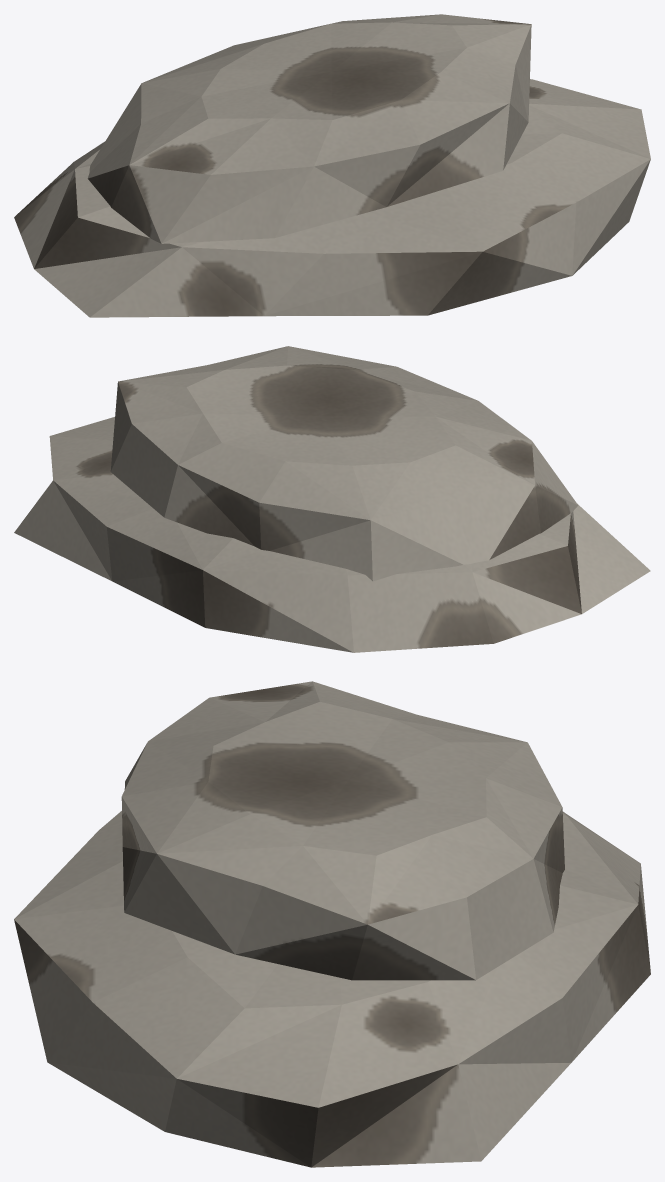
File: CommonStone_Loose_B.glb
3 renders of one model, top to bottom at view 1: azimuth 30°, elevation 25°; view 2: azimuth 150°, elevation 25°; view 3: azimuth 270°, elevation 25°, orthographic. The views are drawn at different scales.
Visible parts, largest first — view 1: CommonStone_Loose_B_LOD0; view 2: CommonStone_Loose_B_LOD0; view 3: CommonStone_Loose_B_LOD0.
Boxes of the visible parts, x1,y1,x2,y2 form: CommonStone_Loose_B_LOD0: [14, 14, 650, 317]; CommonStone_Loose_B_LOD0: [14, 346, 650, 652]; CommonStone_Loose_B_LOD0: [14, 681, 650, 1167].
Size of what is drawn, in the model's own units: 2.79 by 0.7923 by 1.95.
1 material, 1 textured.
